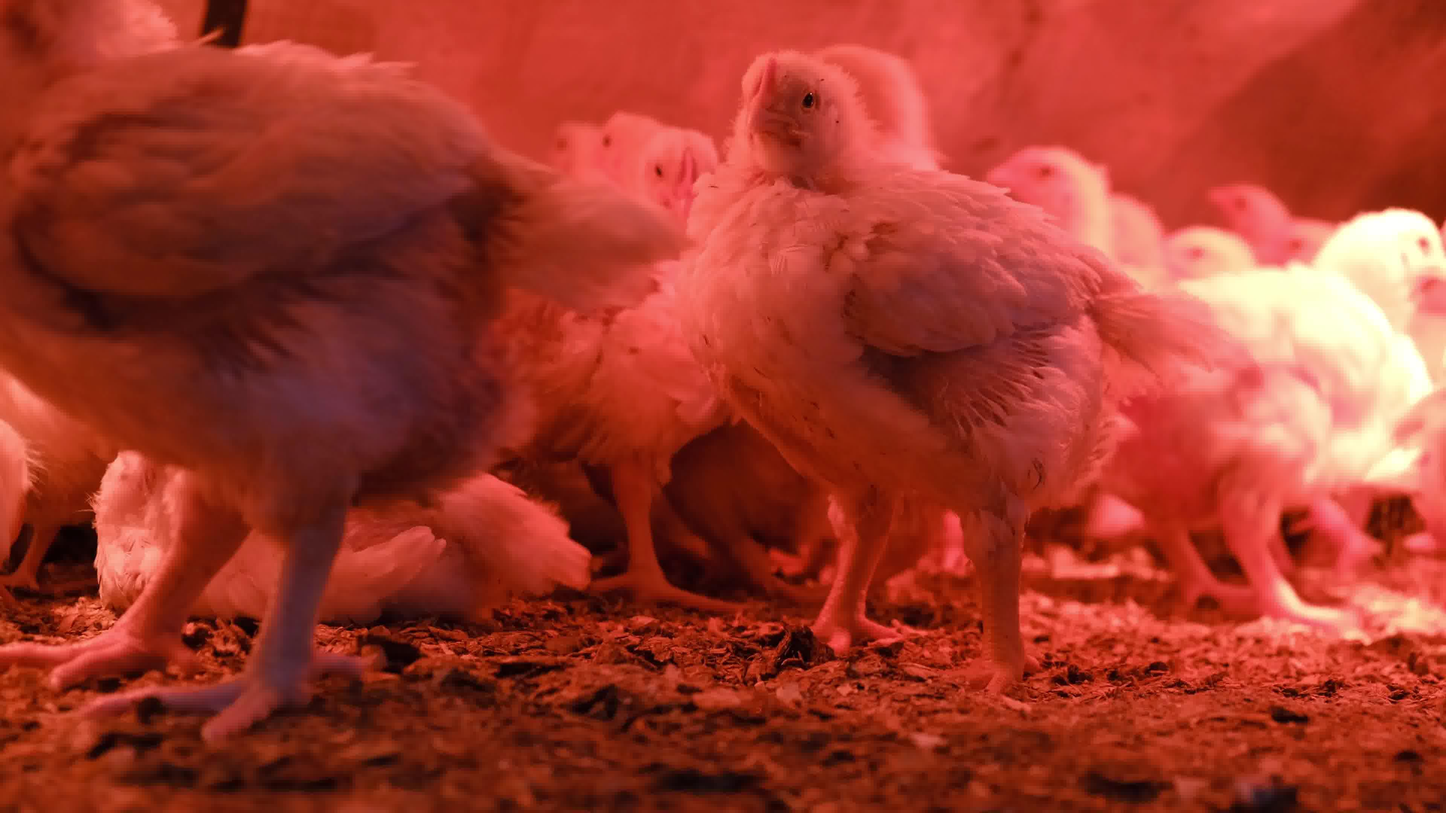AbNormal: (60, 363, 599, 659)
Normal: (0, 6, 537, 745), (670, 9, 1169, 711), (1233, 203, 1446, 640), (619, 136, 770, 644), (520, 70, 715, 282), (975, 100, 1143, 260), (1124, 183, 1297, 326), (1199, 149, 1342, 292)
